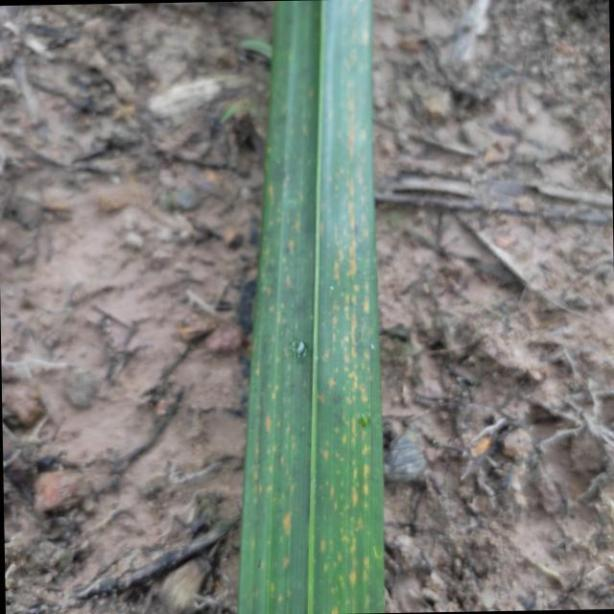Kalium: (235, 0, 374, 614)
